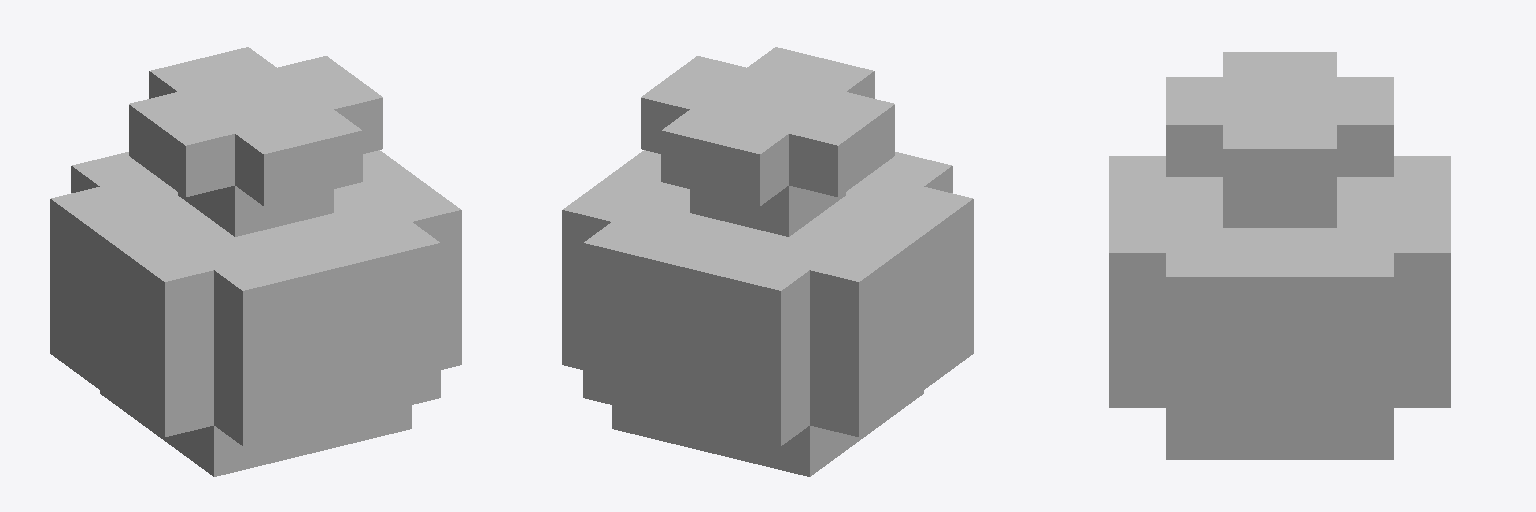
The model's file is Jar_05.obj.
3 renders of one model, left to right at view 1: azimuth 30°, elevation 25°; view 2: azimuth 150°, elevation 25°; view 3: azimuth 270°, elevation 25°, orthographic.
Visible parts, largest first — view 1: Jar_05.002; view 2: Jar_05.002; view 3: Jar_05.002.
Boxes of the visible parts, <box> form: Jar_05.002: <box>50,47,461,476</box>; Jar_05.002: <box>562,47,973,476</box>; Jar_05.002: <box>1109,52,1450,459</box>.
Bounding box in the file's own units: 0.6 × 0.6 × 0.6.